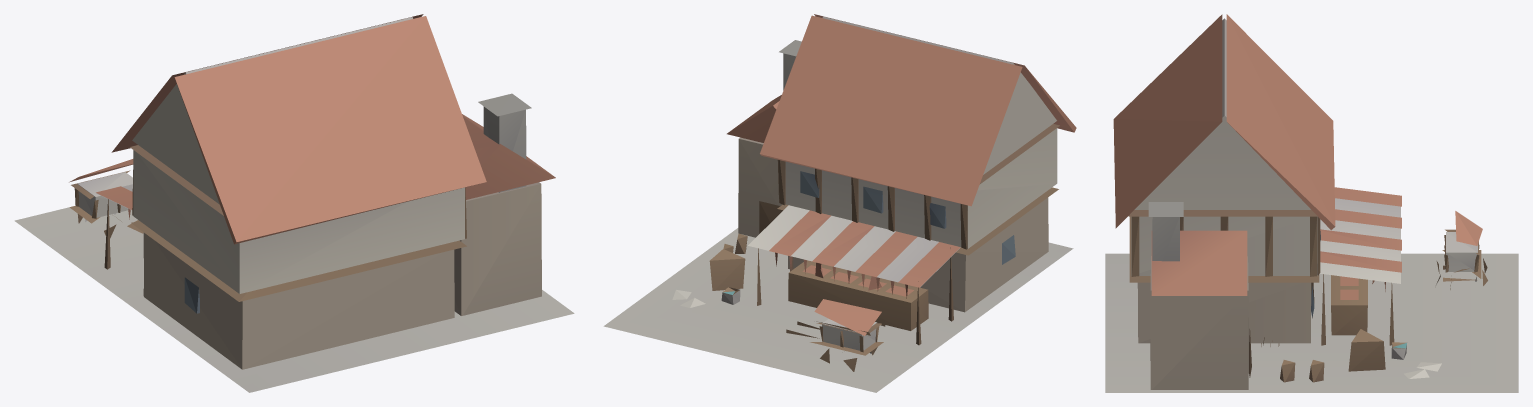
Rendered from butcher.lite.glb.
The picture shows the model from 3 angles, left to right: view 1: azimuth 30°, elevation 25°; view 2: azimuth 150°, elevation 25°; view 3: azimuth 270°, elevation 25°; orthographic projection. The views are drawn at different scales.
Parts seen in each view (by area): view 1: butcher; view 2: butcher; view 3: butcher.
Part boxes in pixels (left/top/right/bottom): butcher: left=14, top=14, right=574, bottom=392; butcher: left=603, top=14, right=1076, bottom=392; butcher: left=1105, top=14, right=1518, bottom=392.
Size of the model in its own units: 4.15 by 3.17 by 4.96.
